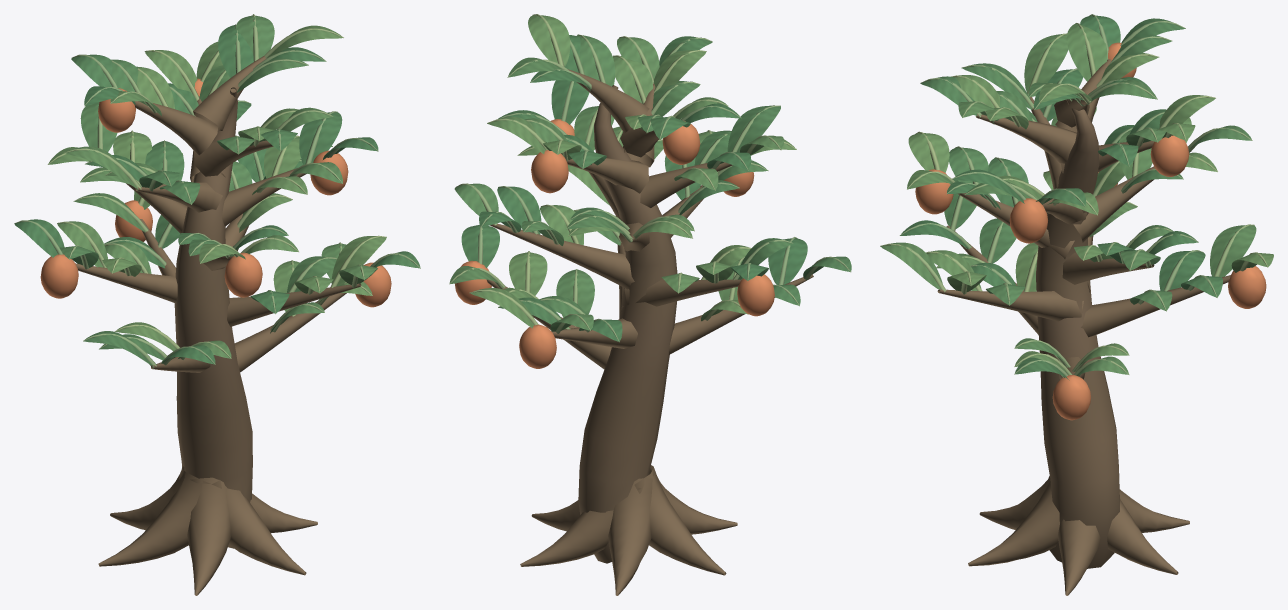
The model's file is tree.glb.
3 renders of one model, left to right at view 1: azimuth 30°, elevation 25°; view 2: azimuth 150°, elevation 25°; view 3: azimuth 270°, elevation 25°, orthographic. The views are drawn at different scales.
Visible parts, largest first — view 1: body, leaves; view 2: body, leaves; view 3: body, leaves.
Boxes of the visible parts, <box> form: body: <box>40,56,391,595</box>; leaves: <box>14,14,420,368</box>; body: <box>455,69,813,595</box>; leaves: <box>449,14,851,342</box>; body: <box>915,42,1266,595</box>; leaves: <box>880,14,1273,380</box>.
Bounding box in the file's own units: 2.04 × 2.79 × 1.92.
